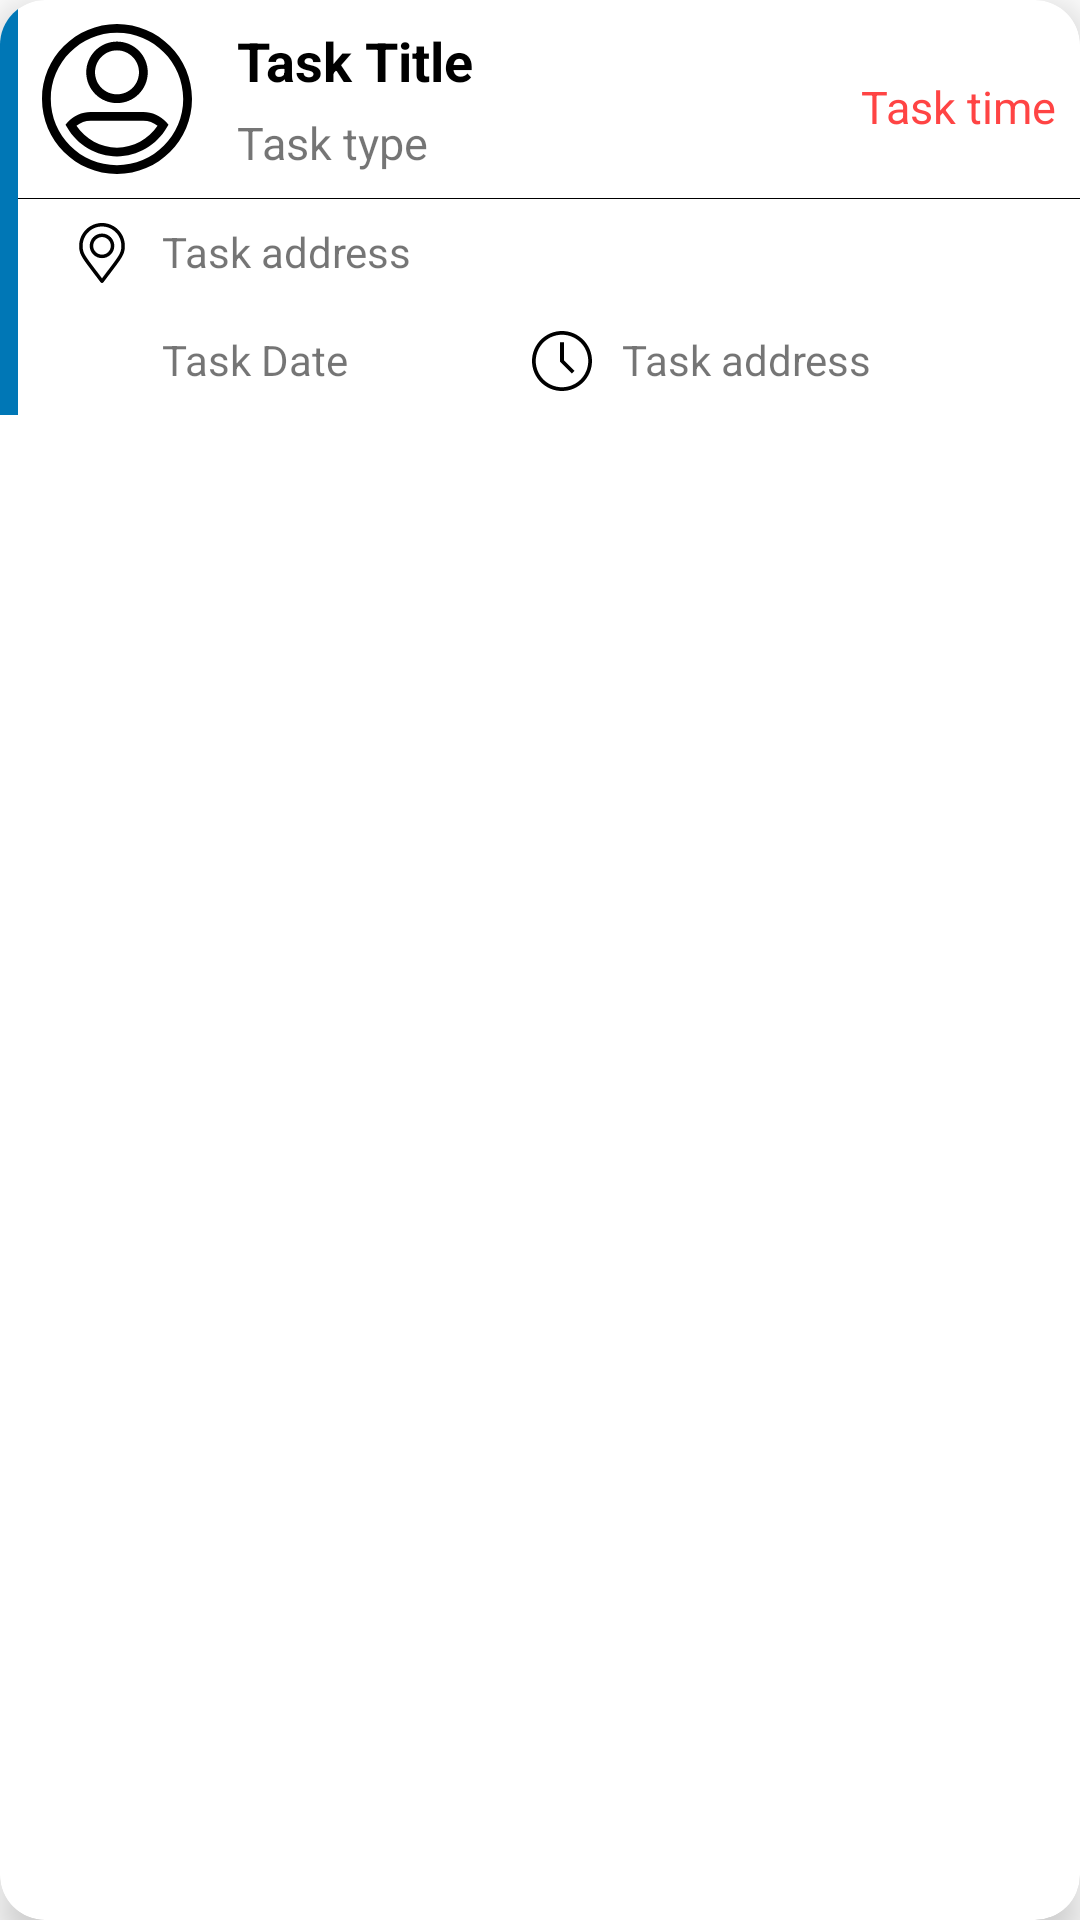

Screen size 1080x1920. Icon name, then its box in pixels as region(x1, y1, x2, y2):
address show task: region(79, 223, 125, 283)
time show task: region(532, 331, 592, 391)
user show task: region(42, 24, 192, 174)
